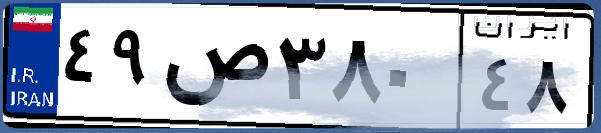0: (385, 28, 445, 110)
3: (270, 28, 330, 110)
4: (57, 26, 110, 100), (475, 38, 525, 113)
8: (330, 28, 385, 110), (525, 38, 570, 115)
9: (110, 28, 158, 98)
ص: (158, 20, 270, 120)
